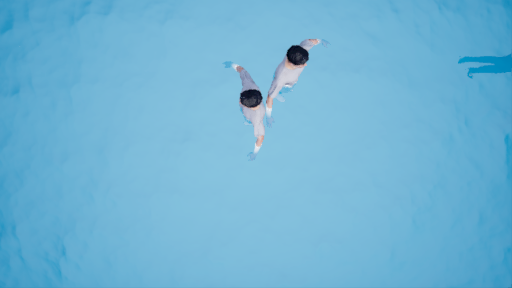person: (255, 31, 342, 126), (227, 65, 275, 164)
